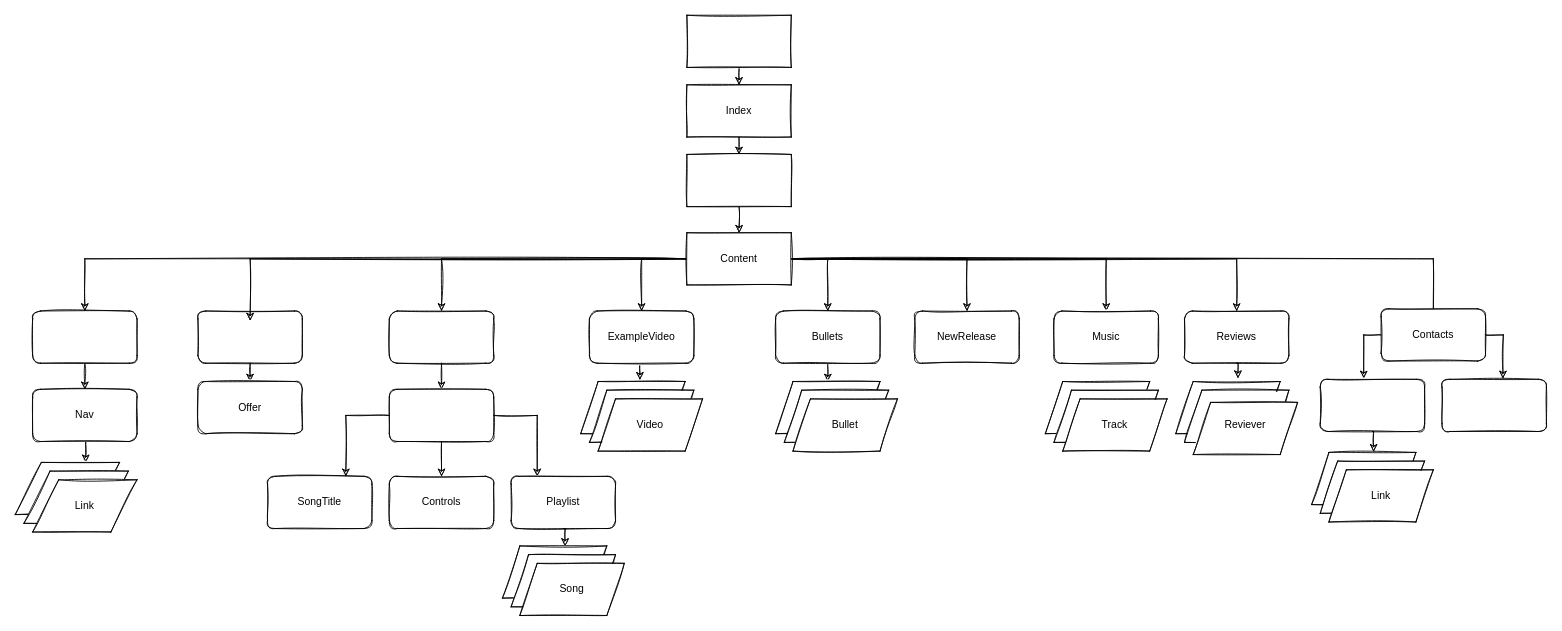
This 1562x631 diagram has some shape labels left out. Here are the shapes that lost their labels. From the top down, the centre of each, then its label:
pixel 738 40: STORE
pixel 738 180: App
pixel 84 336: Header
pixel 249 336: Home
pixel 441 336: Examples
pixel 441 415: AudioPlayer
pixel 1372 405: Socials
pixel 1493 405: Form
